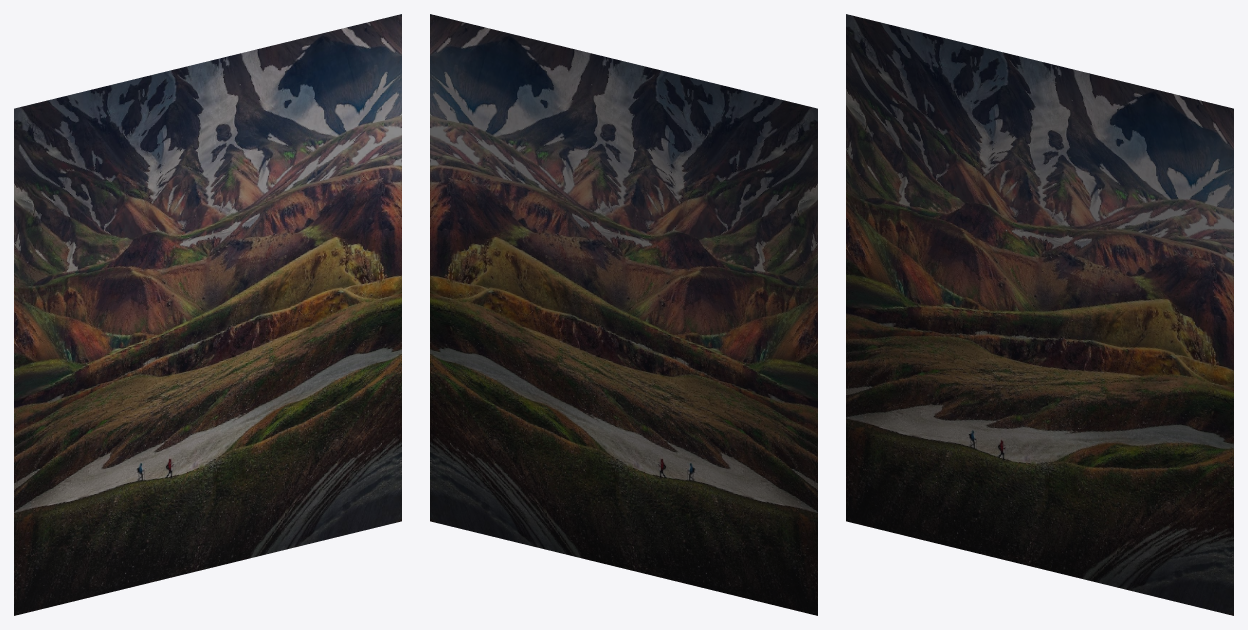
File: originalIcelandAspose.glb
The picture shows the model from 3 angles, left to right: view 1: azimuth 30°, elevation 25°; view 2: azimuth 150°, elevation 25°; view 3: azimuth 330°, elevation 25°; orthographic projection.
Visible parts, largest first — view 1: node-0; view 2: node-0; view 3: node-0.
Part boxes in pixels (bbox=[...]): node-0: bbox=[14, 14, 401, 615]; node-0: bbox=[430, 14, 817, 615]; node-0: bbox=[846, 14, 1233, 615].
Size of the model in its own units: 381 by 476 by 0.
1 material, 1 textured.
